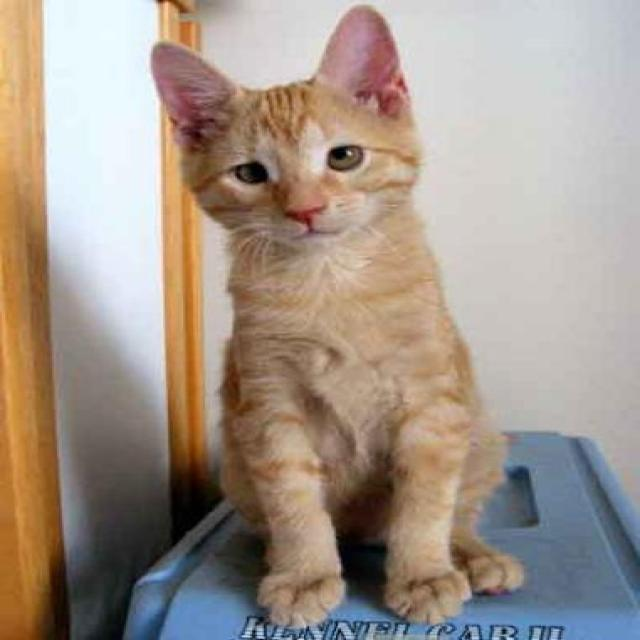Cats: (148, 2, 527, 628)
